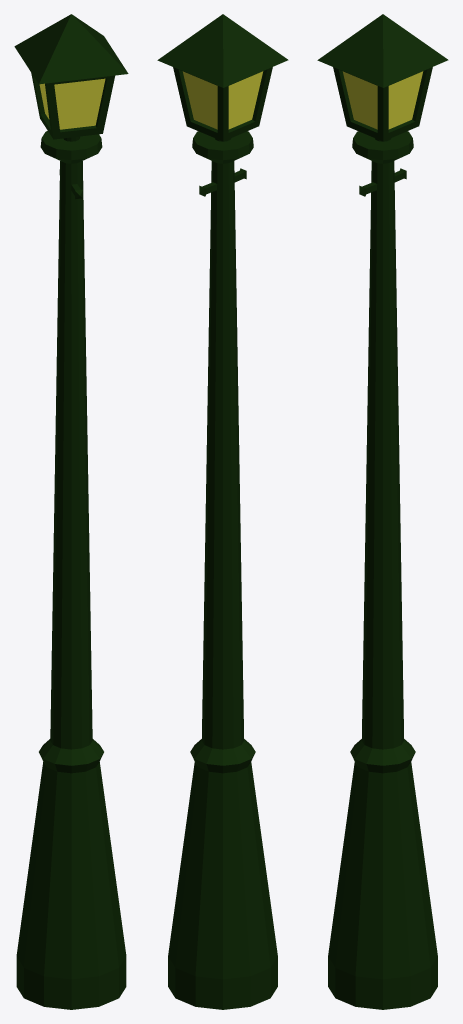
Rendered from Lamppost_V1,0.fbx.
3 views of the same model, side by side, from view 1: azimuth 30°, elevation 25°; view 2: azimuth 150°, elevation 25°; view 3: azimuth 330°, elevation 25° (orthographic).
Parts seen in each view (by area): view 1: Lamppost, Light; view 2: Lamppost, Light; view 3: Lamppost, Light.
Boxes of the visible parts, x1,y1,x2,y2 form: Lamppost: [14, 14, 128, 1009]; Light: [39, 78, 105, 129]; Lamppost: [157, 14, 288, 1009]; Light: [182, 71, 263, 129]; Lamppost: [317, 14, 448, 1009]; Light: [342, 71, 423, 129].
Bounding box in the file's own units: 108 × 1022 × 108.
